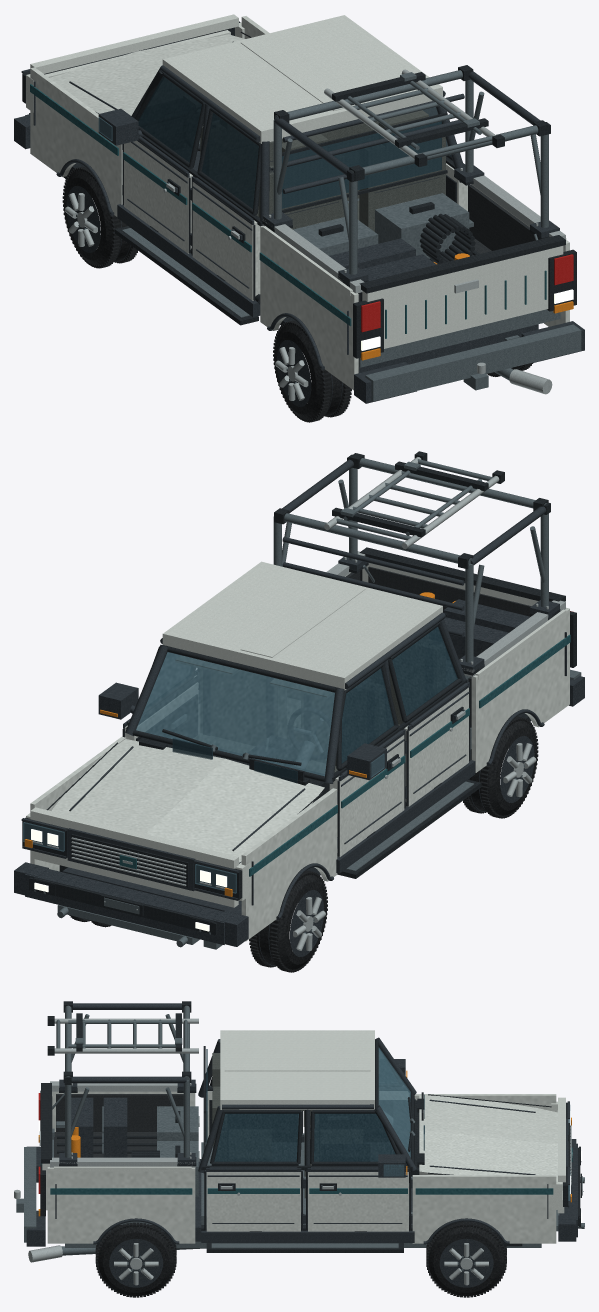
3 views of the same model, one above another, from view 1: azimuth 30°, elevation 25°; view 2: azimuth 150°, elevation 25°; view 3: azimuth 270°, elevation 25° (orthographic). The views are drawn at different scales.
Parts seen in each view (by area): view 1: VIS_MERGED_body, VIS_MERGED_steel, VIS_MERGED_body_trim, VIS_MERGED_black_plastic, VIS_MERGED_glass_dark, VIS_MERGED_chrome, VIS_MERGED_tire, VIS_MERGED_seat, VIS_MERGED_body_dark, VIS_MERGED_bedliner, VIS_MERGED_red_lens; view 2: VIS_MERGED_body, VIS_MERGED_body_trim, VIS_MERGED_black_plastic, VIS_MERGED_glass, VIS_MERGED_steel, VIS_MERGED_glass_dark, VIS_MERGED_seat, VIS_MERGED_chrome, VIS_MERGED_tire, VIS_MERGED_body_dark, VIS_MERGED_bedliner, VIS_MERGED_white_led; view 3: VIS_MERGED_body, VIS_MERGED_body_trim, VIS_MERGED_black_plastic, VIS_MERGED_steel, VIS_MERGED_glass_dark, VIS_MERGED_chrome, VIS_MERGED_tire, VIS_MERGED_bedliner, VIS_MERGED_body_dark, VIS_MERGED_glass, VIS_MERGED_seat.
Part boxes in pixels (<box>): VIS_MERGED_body: <box>26,14,569,390</box>; VIS_MERGED_steel: <box>76,70,581,401</box>; VIS_MERGED_body_trim: <box>14,36,584,415</box>; VIS_MERGED_black_plastic: <box>22,21,576,358</box>; VIS_MERGED_glass_dark: <box>138,77,451,208</box>; VIS_MERGED_chrome: <box>64,69,565,400</box>; VIS_MERGED_tire: <box>62,166,533,422</box>; VIS_MERGED_seat: <box>200,110,445,231</box>; VIS_MERGED_body_dark: <box>30,84,546,338</box>; VIS_MERGED_bedliner: <box>358,184,539,301</box>; VIS_MERGED_red_lens: <box>361,254,573,332</box>; VIS_MERGED_body: <box>26,561,569,941</box>; VIS_MERGED_body_trim: <box>14,459,584,966</box>; VIS_MERGED_black_plastic: <box>22,451,576,935</box>; VIS_MERGED_glass: <box>23,652,384,893</box>; VIS_MERGED_steel: <box>34,458,581,949</box>; VIS_MERGED_glass_dark: <box>145,626,457,783</box>; VIS_MERGED_seat: <box>175,655,403,773</box>; VIS_MERGED_chrome: <box>32,457,565,951</box>; VIS_MERGED_tire: <box>69,716,538,972</box>; VIS_MERGED_body_dark: <box>119,634,570,876</box>; VIS_MERGED_bedliner: <box>346,566,531,727</box>; VIS_MERGED_white_led: <box>31,829,227,931</box>; VIS_MERGED_body: <box>42,1030,565,1243</box>; VIS_MERGED_body_trim: <box>26,1003,577,1296</box>; VIS_MERGED_black_plastic: <box>40,1001,581,1252</box>; VIS_MERGED_steel: <box>16,1005,584,1271</box>; VIS_MERGED_glass_dark: <box>206,1049,424,1161</box>; VIS_MERGED_chrome: <box>14,1018,583,1285</box>; VIS_MERGED_tire: <box>95,1221,506,1297</box>; VIS_MERGED_bedliner: <box>52,1094,183,1157</box>; VIS_MERGED_body_dark: <box>41,1147,572,1194</box>; VIS_MERGED_glass: <box>378,1047,570,1200</box>; VIS_MERGED_seat: <box>212,1052,379,1211</box>.
Size of the model in its own units: 2.49 by 2.53 by 5.75.
Materials: 14 (14 with a texture image).
